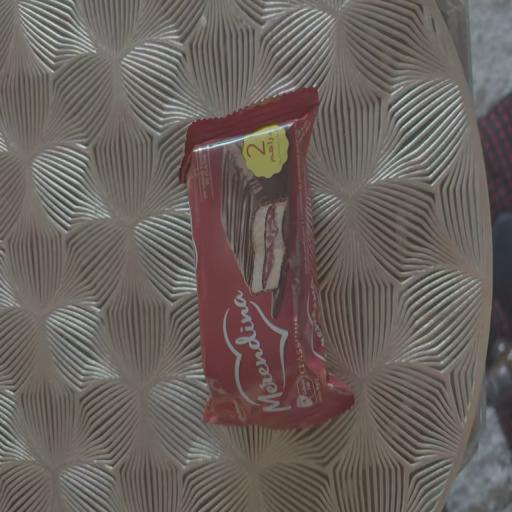merendina: (166, 80, 369, 450)
